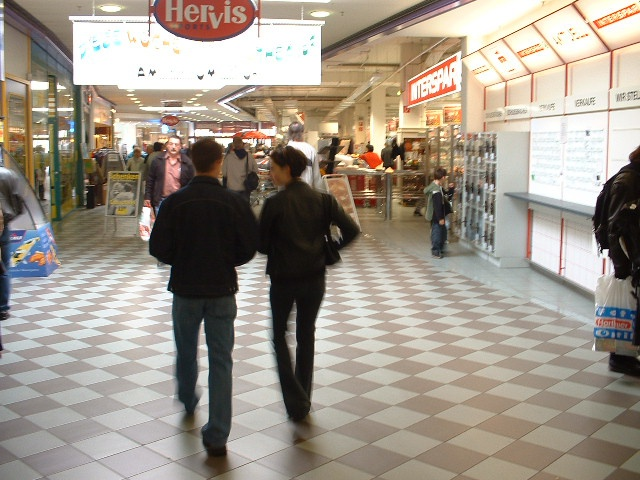person: (155, 136, 252, 457), (254, 147, 358, 428), (424, 165, 456, 256)
